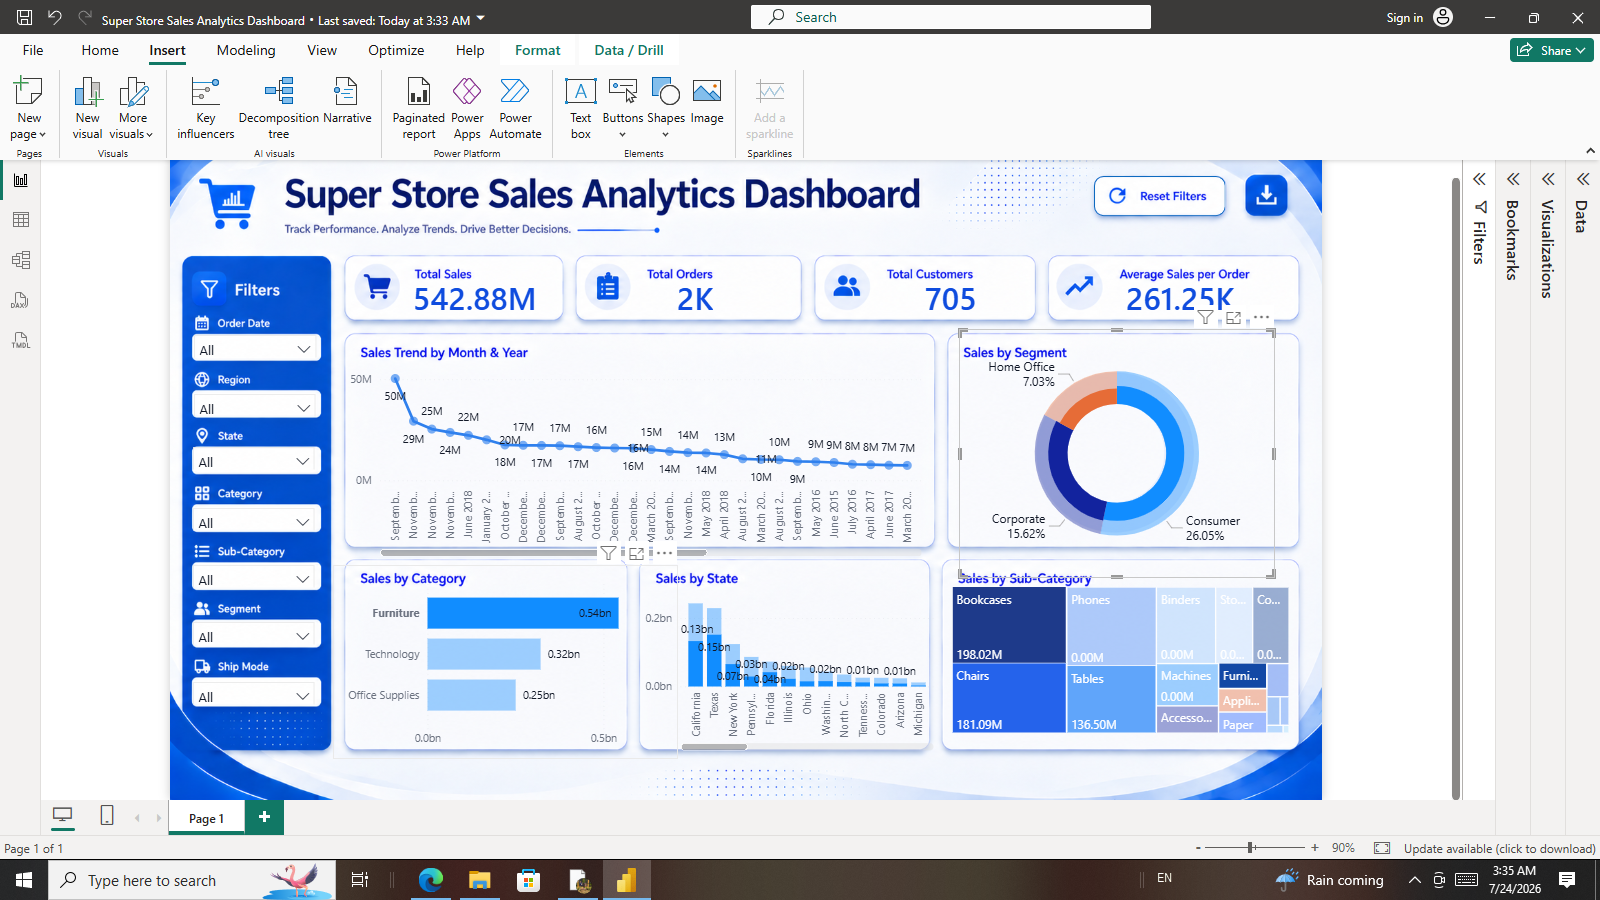

The dashboard page shown, as its layout file describes it:
{"tool":"powerbi","page":{"name":"Page 1","canvas":[1280,720],"ordinal":0},"visuals":[{"type":"cardVisual","fields":{"Data":["Superstore_Sales_Dataset.Total Sales"]},"box":[241.6,119.5,199.2,79.7],"z":0},{"type":"cardVisual","fields":{"Data":["Superstore_Sales_Dataset.Total Orders"]},"box":[534.6,119.5,164.5,79.7],"z":1000},{"type":"cardVisual","fields":{"Data":["Superstore_Sales_Dataset.Total Customers"]},"box":[809.6,119.5,164.5,79.7],"z":2000},{"type":"cardVisual","fields":{"Data":["Superstore_Sales_Dataset.Average Sales"]},"box":[1033.3,119.5,194.1,79.7],"z":3000},{"type":"lineChart","fields":{"Category":["Superstore_Sales_Dataset.Month & Year Order"],"Y":["Sum(Superstore_Sales_Dataset.Sales)"]},"box":[190.2,210.8,655.4,248],"z":4000},{"type":"donutChart","fields":{"Y":["Sum(Superstore_Sales_Dataset.Sales)"],"Category":["Superstore_Sales_Dataset.Segment"]},"box":[876.5,196.6,350.8,276.3],"z":5000},{"type":"clusteredBarChart","fields":{"Category":["Superstore_Sales_Dataset.Category"],"Y":["Sum(Superstore_Sales_Dataset.Sales)"]},"box":[181.2,458.8,383,215.9],"z":6000},{"type":"clusteredColumnChart","fields":{"Category":["Superstore_Sales_Dataset.State"],"Y":["Sum(Superstore_Sales_Dataset.Sales)"]},"box":[517.9,458.8,340.6,215.9],"z":7000},{"type":"treemap","fields":{"Group":["Superstore_Sales_Dataset.Sub-Category"],"Values":["Sum(Superstore_Sales_Dataset.Sales)"]},"box":[858.5,472.9,394.5,182.5],"z":8000},{"type":"slicer","fields":{"Values":["Superstore_Sales_Dataset.Order Date"]},"box":[16.1,192.8,155.6,35],"z":9000},{"type":"slicer","fields":{"Values":["Superstore_Sales_Dataset.Region"]},"box":[16.2,259.2,155.4,34.6],"z":10000},{"type":"slicer","fields":{"Values":["Superstore_Sales_Dataset.State"]},"box":[16,317.3,155.3,34.7],"z":11000},{"type":"slicer","fields":{"Values":["Superstore_Sales_Dataset.Category"]},"box":[16,385.3,155.3,34.7],"z":12000},{"type":"slicer","fields":{"Values":["Superstore_Sales_Dataset.Sub-Category"]},"box":[16,448.7,155.3,34.7],"z":13000},{"type":"slicer","fields":{"Values":["Superstore_Sales_Dataset.Segment"]},"box":[16,512,155.3,34.7],"z":14000},{"type":"slicer","fields":{"Values":["Superstore_Sales_Dataset.Ship Mode"]},"box":[16,578.7,155.3,34.7],"z":15000},{"type":"shape","box":[1026.9,26.2,146.2,44.6],"z":16000}]}

Visuals, with their boxes on the page's 1280x720 design canvas (x1, y1, x2, y2). These are canvas units, not pixel positions in the 1600x900 screenshot, which may show the page scaled, cropped or inside an application window:
cardVisual - Superstore_Sales_Dataset.Total Sales: [left=242, top=120, right=441, bottom=199]
cardVisual - Superstore_Sales_Dataset.Total Orders: [left=535, top=120, right=699, bottom=199]
cardVisual - Superstore_Sales_Dataset.Total Customers: [left=810, top=120, right=974, bottom=199]
cardVisual - Superstore_Sales_Dataset.Average Sales: [left=1033, top=120, right=1227, bottom=199]
lineChart - Superstore_Sales_Dataset.Month & Year Order x Sum(Superstore_Sales_Dataset.Sales): [left=190, top=211, right=846, bottom=459]
donutChart - Sum(Superstore_Sales_Dataset.Sales) x Superstore_Sales_Dataset.Segment: [left=876, top=197, right=1227, bottom=473]
clusteredBarChart - Superstore_Sales_Dataset.Category x Sum(Superstore_Sales_Dataset.Sales): [left=181, top=459, right=564, bottom=675]
clusteredColumnChart - Superstore_Sales_Dataset.State x Sum(Superstore_Sales_Dataset.Sales): [left=518, top=459, right=858, bottom=675]
treemap - Superstore_Sales_Dataset.Sub-Category x Sum(Superstore_Sales_Dataset.Sales): [left=858, top=473, right=1253, bottom=655]
slicer - Superstore_Sales_Dataset.Order Date: [left=16, top=193, right=172, bottom=228]
slicer - Superstore_Sales_Dataset.Region: [left=16, top=259, right=172, bottom=294]
slicer - Superstore_Sales_Dataset.State: [left=16, top=317, right=171, bottom=352]
slicer - Superstore_Sales_Dataset.Category: [left=16, top=385, right=171, bottom=420]
slicer - Superstore_Sales_Dataset.Sub-Category: [left=16, top=449, right=171, bottom=483]
slicer - Superstore_Sales_Dataset.Segment: [left=16, top=512, right=171, bottom=547]
slicer - Superstore_Sales_Dataset.Ship Mode: [left=16, top=579, right=171, bottom=613]
shape: [left=1027, top=26, right=1173, bottom=71]
